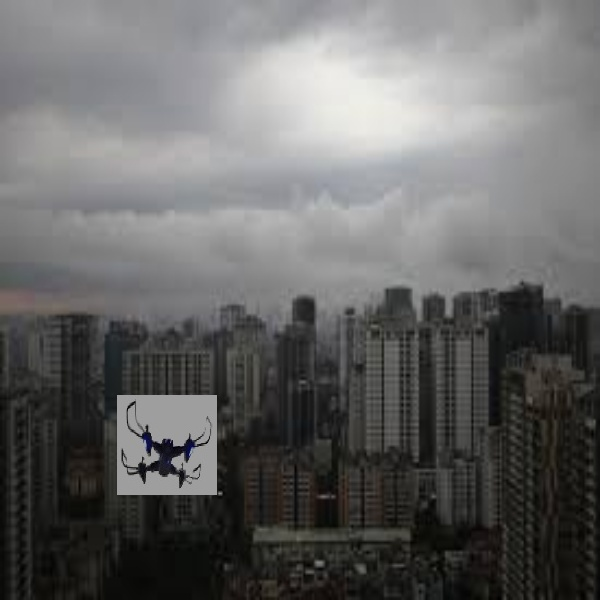drone: (115, 399, 219, 493)
